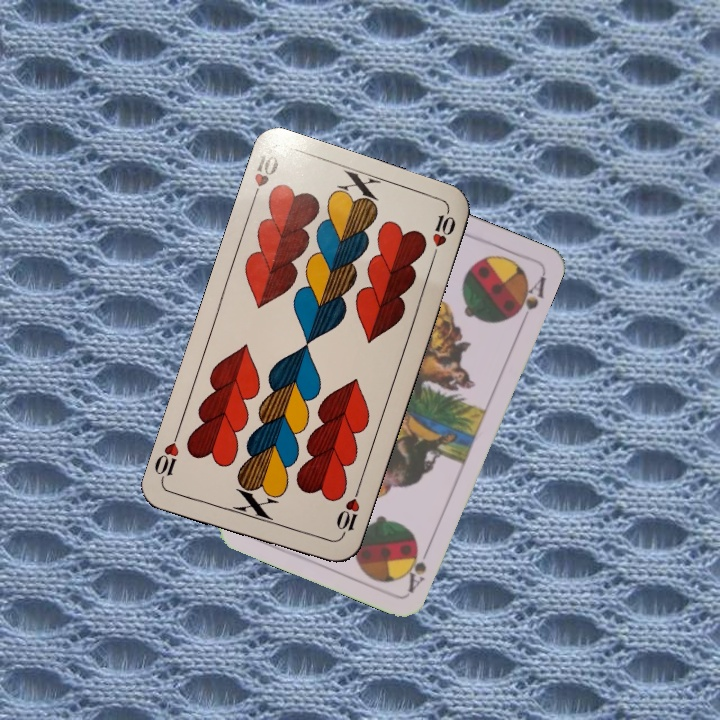H10: (247, 148, 281, 207), (332, 484, 363, 542)
SA: (402, 538, 434, 595)
